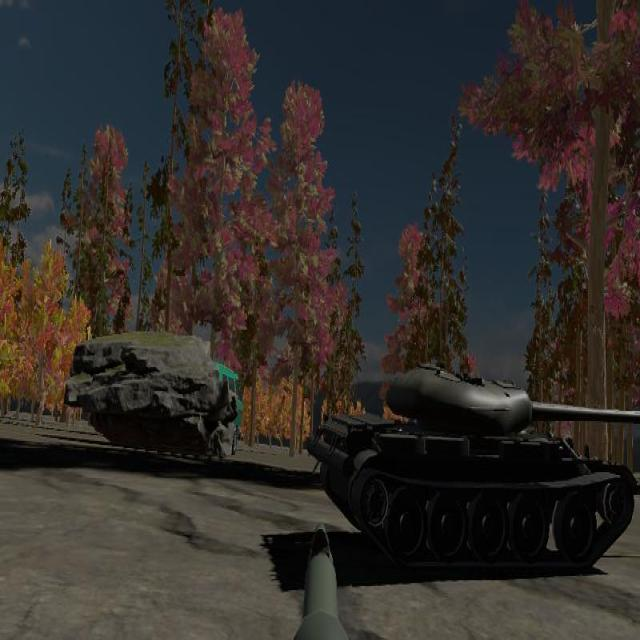Tank: (316, 358, 640, 569)
